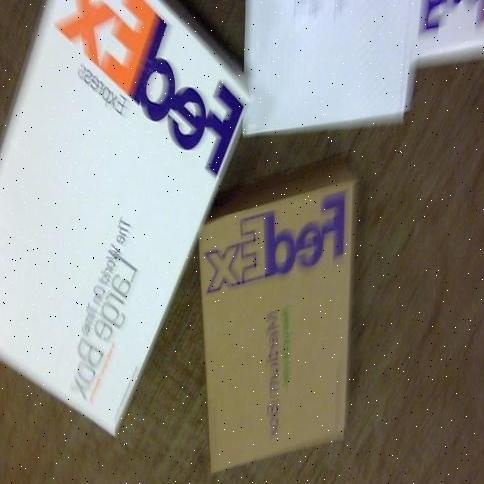Amazon: (0, 0, 261, 408), (197, 151, 363, 467)
